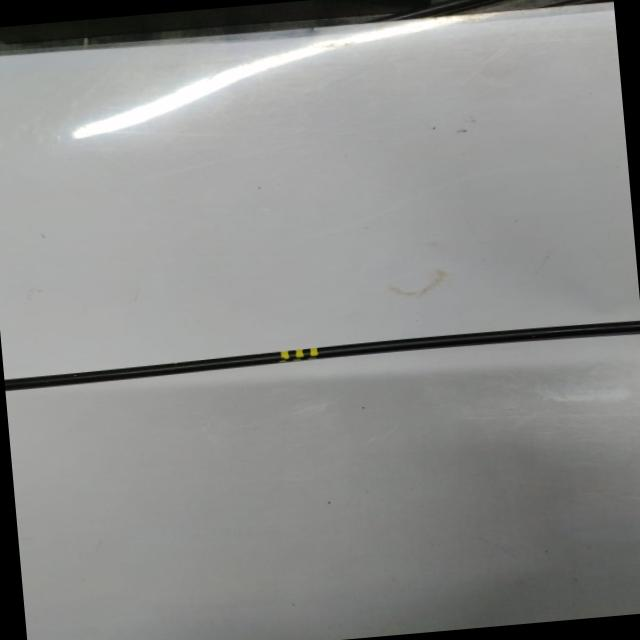yellow: (280, 347, 319, 362)
